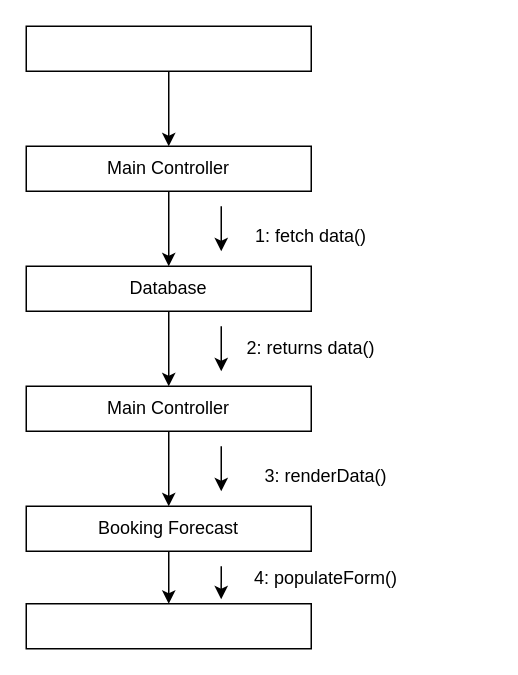
The diagram is 518 pixels wide and 675 high, and some of its shapes have lost their labels. The centre of each missing label's shape, as x and y in pixels:
"End Process" belongs at [168,625].
"Initialisation" belongs at [168,48].
